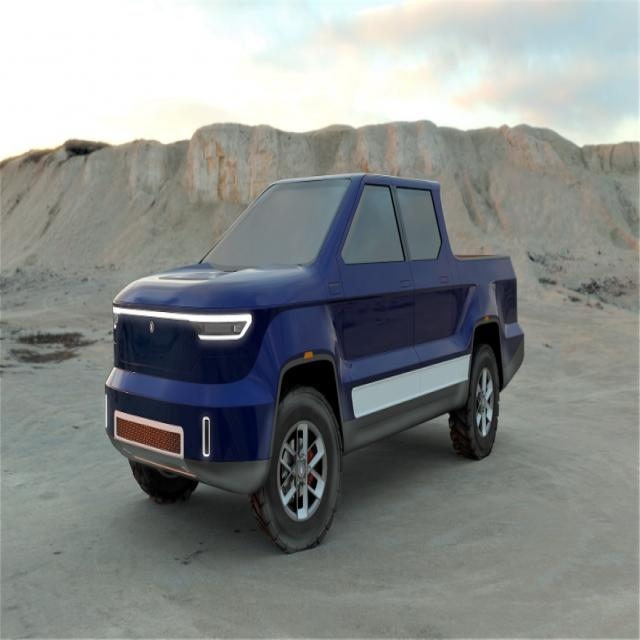Pickup Trucks: (104, 175, 526, 554)
